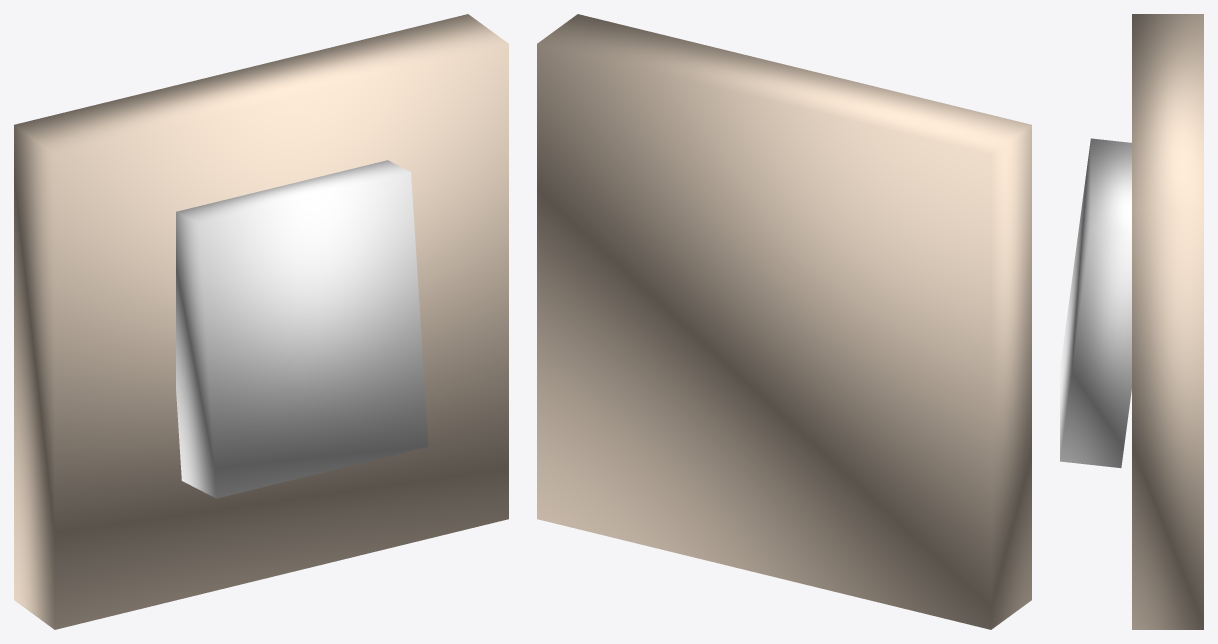
The model's file is lichtschalter.glb.
The picture shows the model from 3 angles, left to right: view 1: azimuth 30°, elevation 25°; view 2: azimuth 150°, elevation 25°; view 3: azimuth 270°, elevation 25°; orthographic projection. The views are drawn at different scales.
Visible parts, largest first — view 1: Lichtschalter; view 2: Lichtschalter; view 3: Lichtschalter.
Part boxes in pixels (<box>): Lichtschalter: <box>14,14,508,629</box>; Lichtschalter: <box>537,14,1031,629</box>; Lichtschalter: <box>1060,14,1203,629</box>.
Size of the model in its own units: 0.09 by 0.09 by 0.0279.
1 material, 1 textured.
